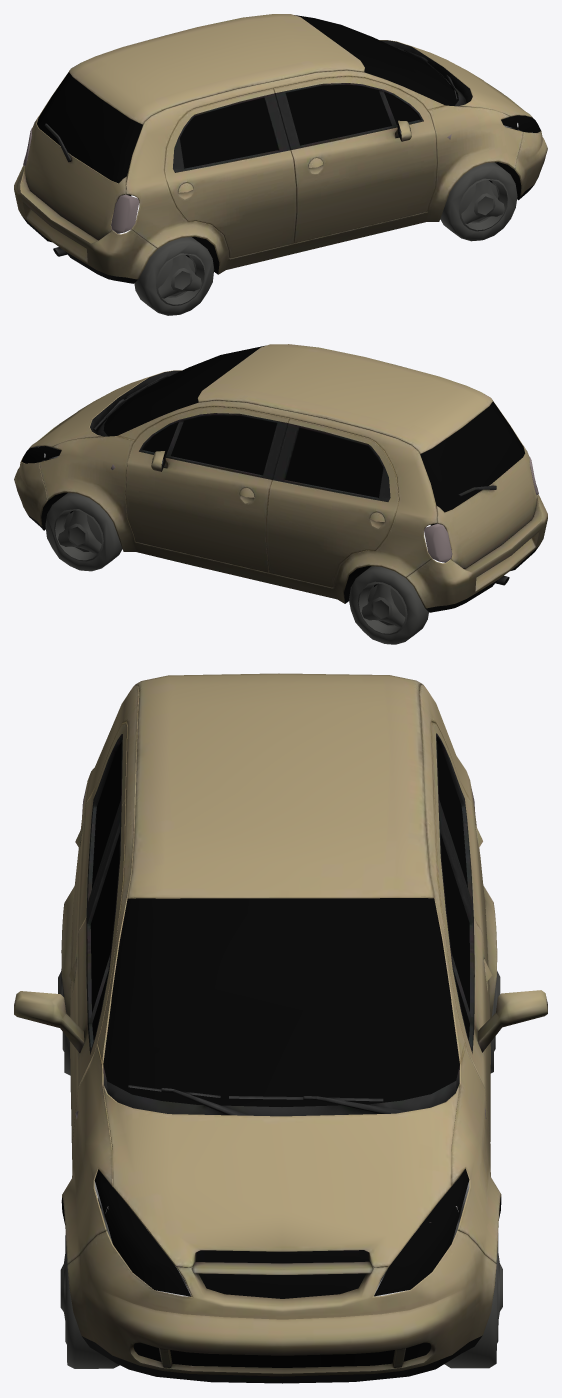
Rendered from pc-compact-beige.lod0.glb.
3 renders of one model, top to bottom at view 1: azimuth 30°, elevation 25°; view 2: azimuth 150°, elevation 25°; view 3: azimuth 270°, elevation 25°, orthographic. The views are drawn at different scales.
Visible parts, largest first — view 1: Compact Body_Body_0, Wheel_C_Wheel_0; view 2: Compact Body_Body_0, Wheel_C_Wheel_0; view 3: Compact Body_Body_0, Wheel_C_Wheel_0.
Part boxes in pixels (left/top/right/bottom): Compact Body_Body_0: left=14, top=14, right=547, bottom=283; Wheel_C_Wheel_0: left=23, top=15, right=540, bottom=315; Compact Body_Body_0: left=14, top=344, right=547, bottom=612; Wheel_C_Wheel_0: left=21, top=345, right=538, bottom=644; Compact Body_Body_0: left=14, top=673, right=547, bottom=1383; Wheel_C_Wheel_0: left=58, top=743, right=502, bottom=1368.
Size of the model in its own units: 3.26 by 1.32 by 1.61.
Materials: 2 (1 with a texture image).
